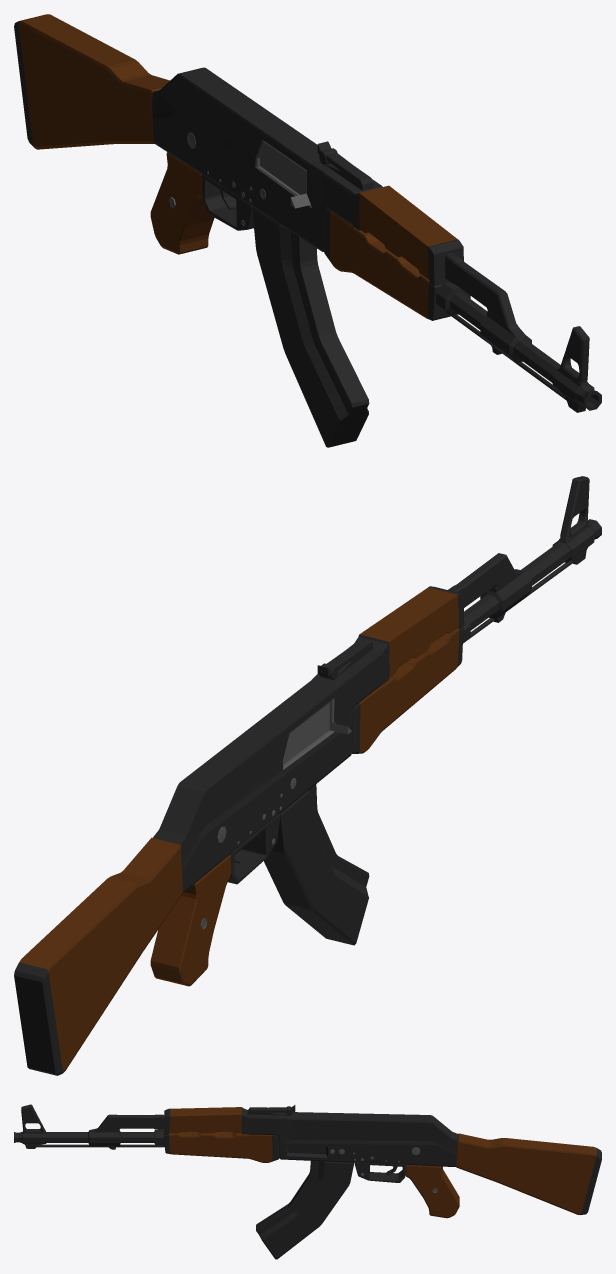
The model's file is Rifle.fbx.
3 views of the same model, one above another, from view 1: azimuth 30°, elevation 25°; view 2: azimuth 150°, elevation 25°; view 3: azimuth 270°, elevation 25° (orthographic). The views are drawn at different scales.
Visible parts, largest first — view 1: Rifle; view 2: Rifle; view 3: Rifle.
Part boxes in pixels (bbox=[...]): Rifle: bbox=[14, 14, 601, 447]; Rifle: bbox=[14, 476, 601, 1075]; Rifle: bbox=[14, 1104, 601, 1259].
Bounding box in the file's own units: 0.079 × 0.4772 × 1.69.
